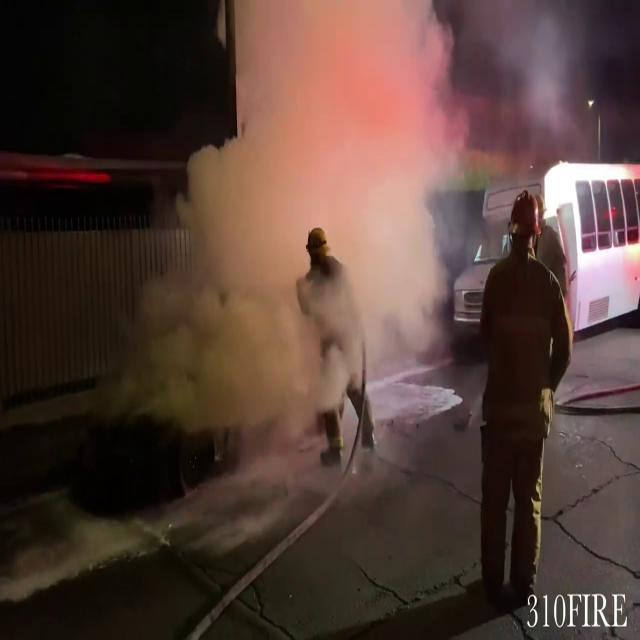Smoke: (142, 0, 474, 422)
